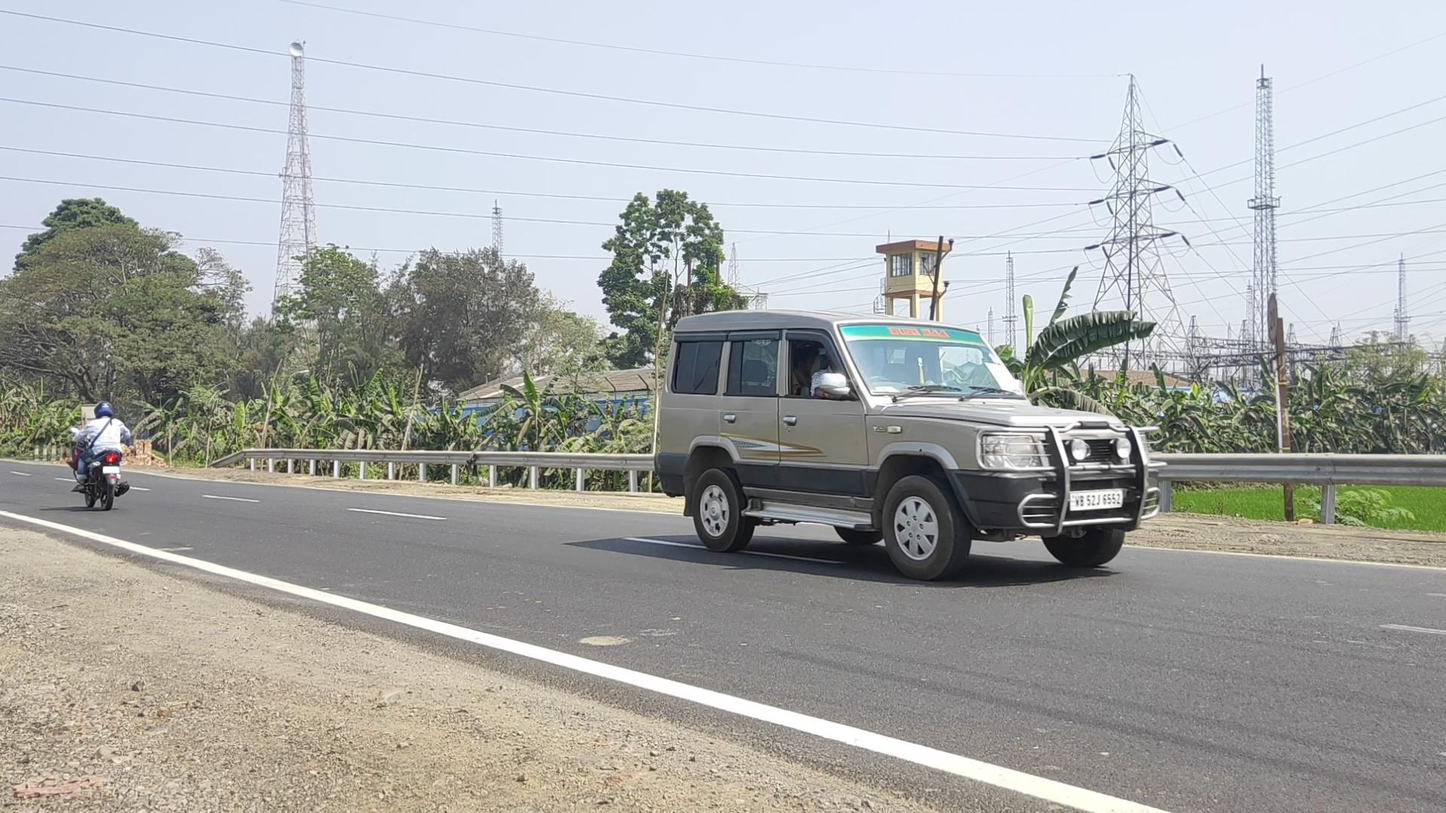bike: (69, 402, 130, 511)
car: (654, 309, 1167, 582)
